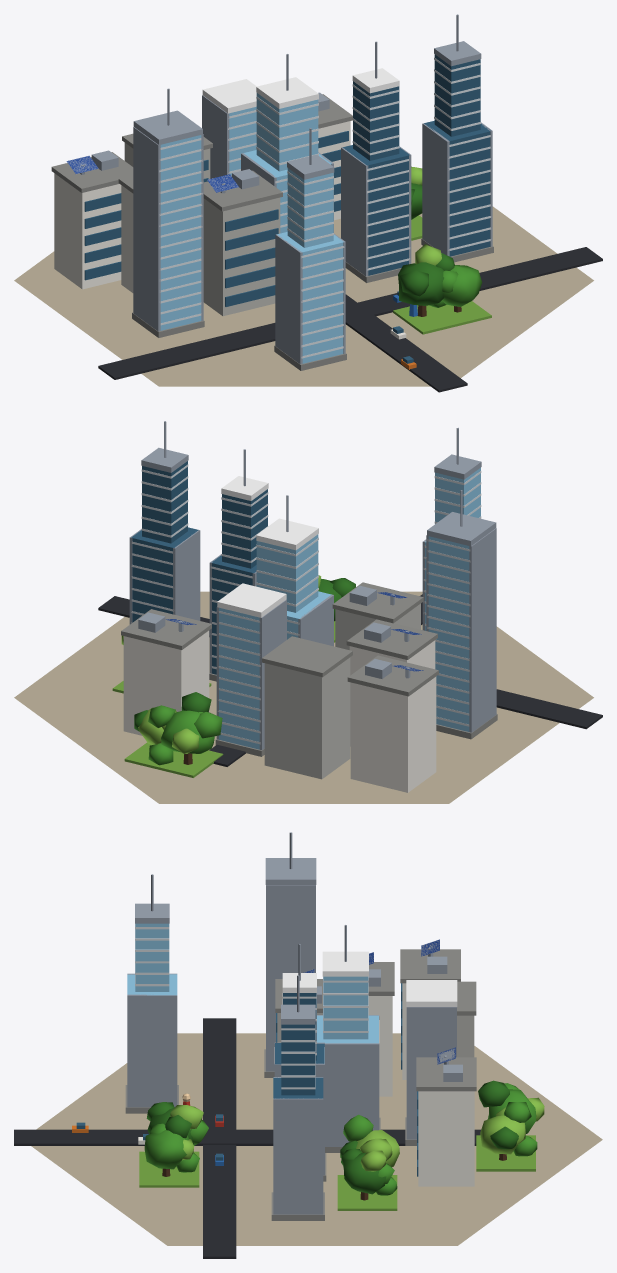
Rendered from city_3_4.fbx.
3 views of the same model, one above another, from view 1: azimuth 30°, elevation 25°; view 2: azimuth 150°, elevation 25°; view 3: azimuth 270°, elevation 25° (orthographic).
Parts seen in each view (by area): view 1: city_3_4; view 2: city_3_4; view 3: city_3_4.
Boxes of the visible parts, box(x1,y1,x2,y2) form: city_3_4: box(14, 14, 602, 392); city_3_4: box(14, 421, 602, 803); city_3_4: box(14, 832, 602, 1258).
Size of the model in its own units: 204 by 93.92 by 213.
